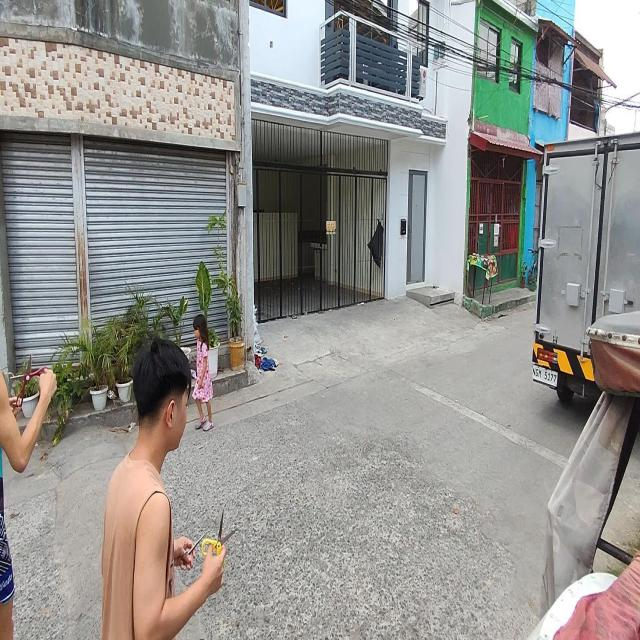scissor: (202, 510, 238, 568), (10, 356, 47, 408), (182, 530, 207, 564)
